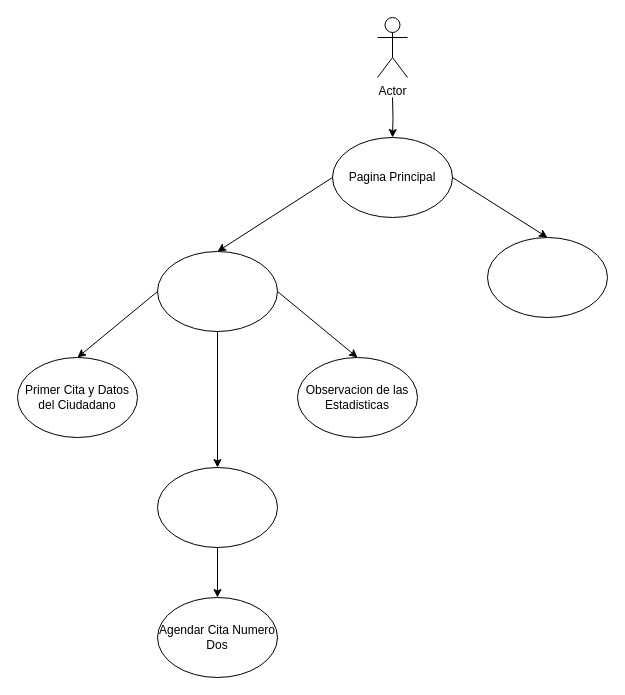
Image size: 625x695. Some labels were removed from this diagram. The centre of each missing label's shape, as x and y in pixels:
Crear Usuario: the point at 547,277
Iniciar Sesion: the point at 217,291
Visualizacion de Datos de Vacunacion: the point at 217,507
